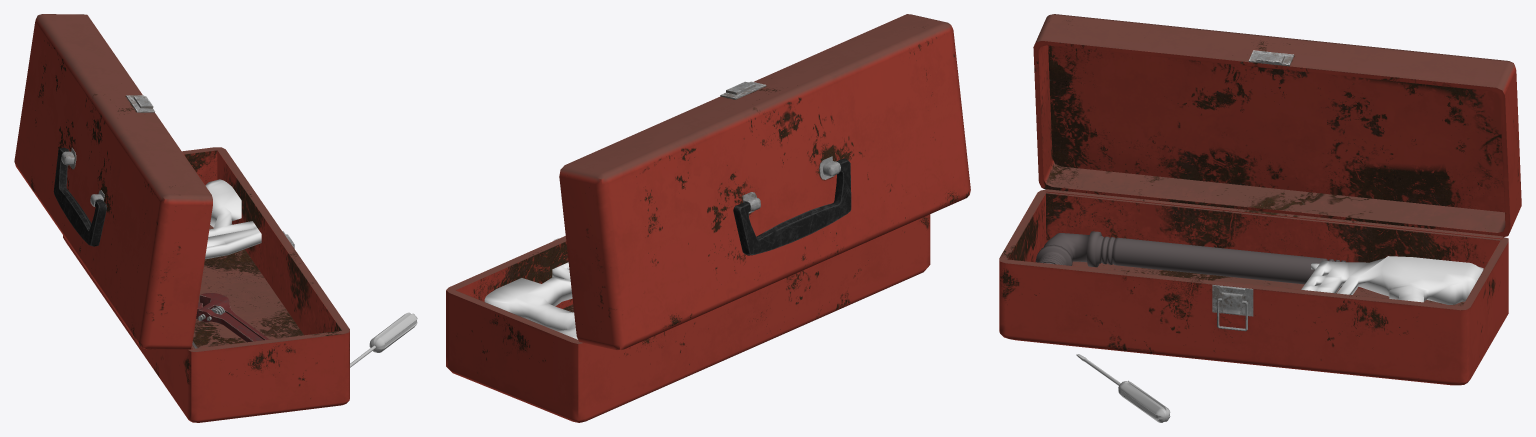
The model's file is repairkit.fbx.
The picture shows the model from 3 angles, left to right: view 1: azimuth 30°, elevation 25°; view 2: azimuth 150°, elevation 25°; view 3: azimuth 270°, elevation 25°; orthographic projection. The views are drawn at different scales.
Visible parts, largest first — view 1: RepairKit; view 2: RepairKit; view 3: RepairKit.
Part boxes in pixels (bbox=[...]): RepairKit: bbox=[14, 14, 417, 422]; RepairKit: bbox=[446, 14, 970, 422]; RepairKit: bbox=[999, 14, 1521, 422].
Bounding box in the file's own units: 183 × 130 × 241.
